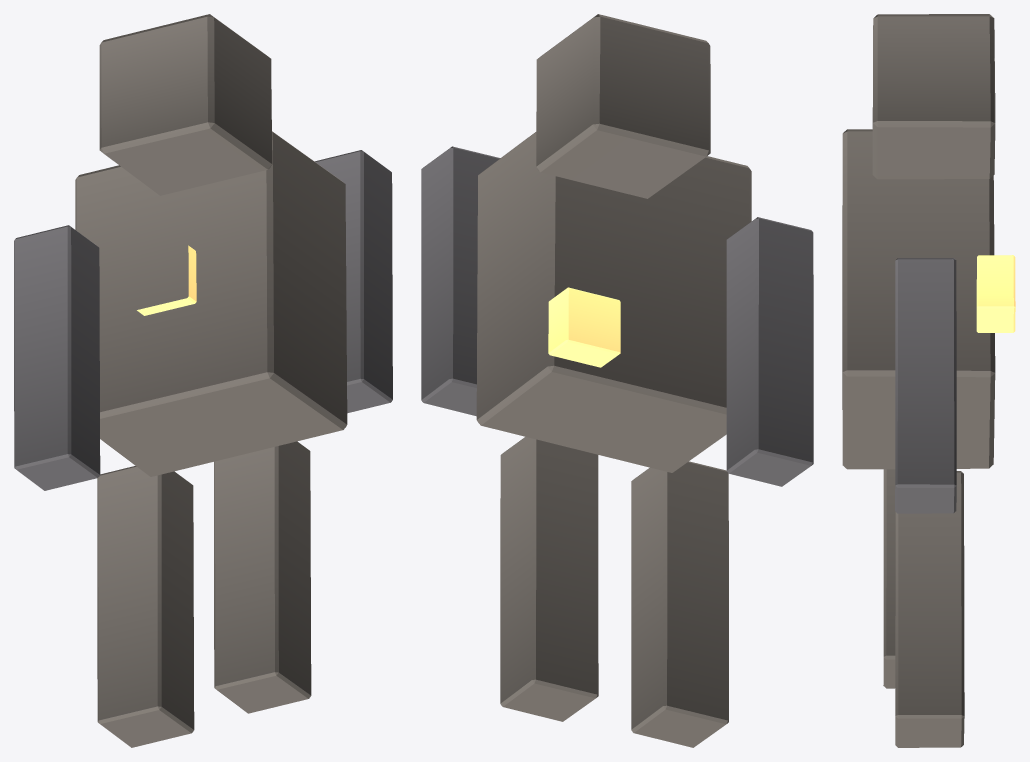
The model's file is stone_automaton.glb.
The picture shows the model from 3 angles, left to right: view 1: azimuth 30°, elevation 25°; view 2: azimuth 150°, elevation 25°; view 3: azimuth 270°, elevation 25°; orthographic projection. The views are drawn at different scales.
Parts seen in each view (by area): view 1: Torso, LegL, Head, LegR, ArmL, ArmR, Core; view 2: Torso, Head, LegL, LegR, ArmL, ArmR, Core; view 3: Torso, Head, LegR, ArmR, Core, LegL.
Boxes of the visible parts, x1,y1,x2,y2 form: Torso: (75, 131, 347, 476); LegL: (97, 466, 194, 747); Head: (99, 14, 272, 195); LegR: (214, 441, 311, 713); ArmL: (14, 225, 100, 490); ArmR: (315, 150, 392, 413); Core: (137, 245, 196, 315); Torso: (476, 132, 751, 472); Head: (536, 14, 710, 198); LegL: (631, 461, 728, 747); LegR: (500, 437, 598, 721); ArmL: (726, 217, 813, 486); ArmR: (421, 146, 500, 416); Core: (548, 287, 620, 367); Torso: (842, 129, 995, 469); Head: (872, 14, 995, 179); LegR: (895, 471, 964, 747); ArmR: (895, 258, 956, 513); Core: (976, 255, 1015, 332); LegL: (883, 469, 895, 688).
Bounding box in the file's own units: 1.04 × 1.86 × 0.4442.
